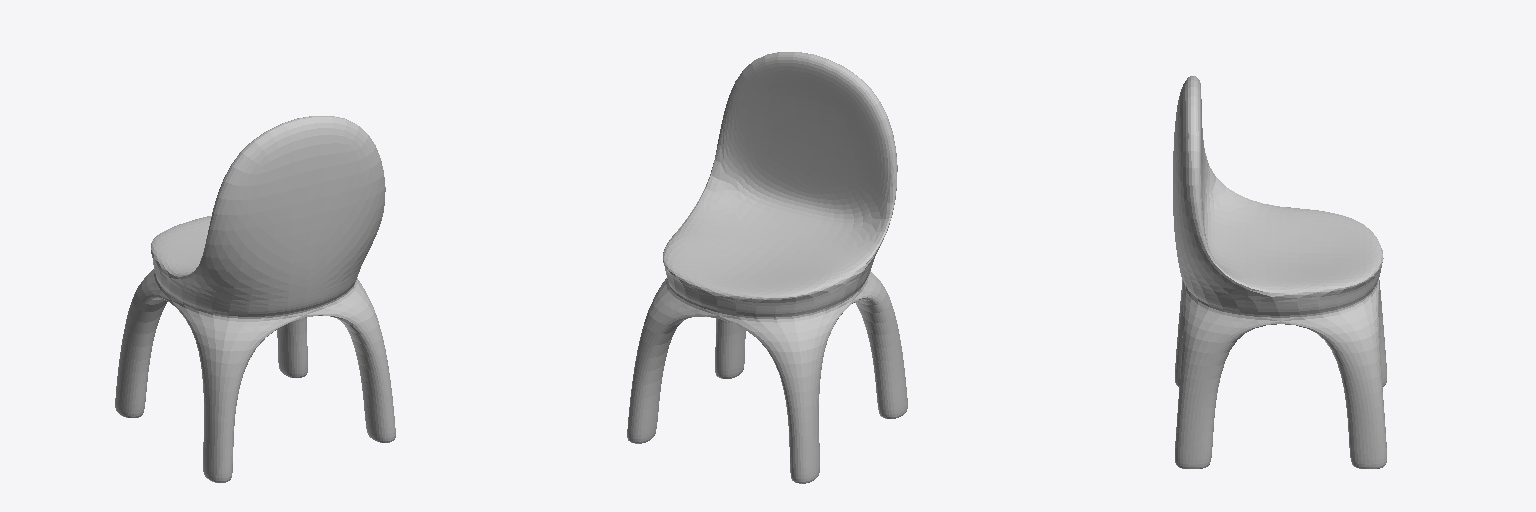
Rendered from chair_01.obj.
3 views of the same model, side by side, from view 1: azimuth 30°, elevation 25°; view 2: azimuth 150°, elevation 25°; view 3: azimuth 270°, elevation 25° (orthographic).
Parts seen in each view (by area): view 1: Cube.001; view 2: Cube.001; view 3: Cube.001.
Boxes of the visible parts, box(x1,y1,x2,y2) form: Cube.001: box(115, 116, 395, 482); Cube.001: box(627, 52, 907, 483); Cube.001: box(1173, 76, 1386, 468).
Size of the model in its own units: 1.92 by 3.36 by 1.93.